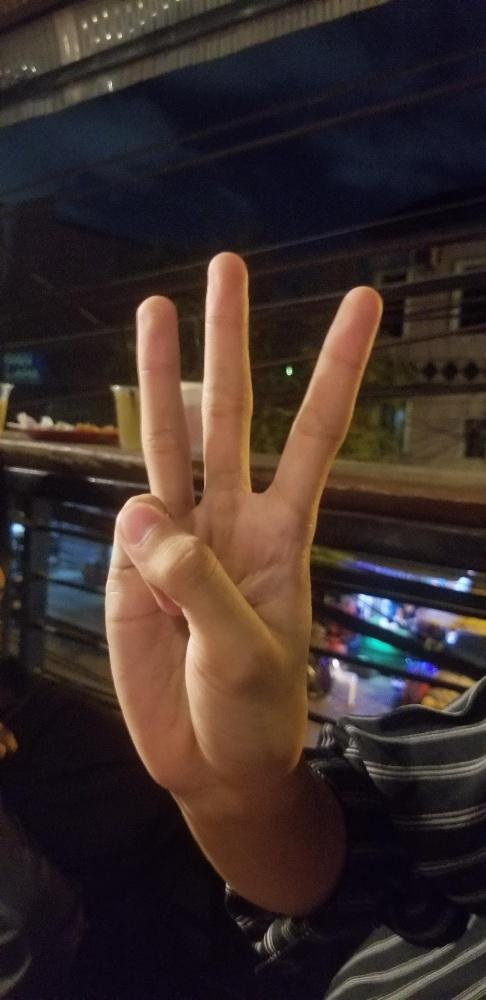w: (103, 246, 383, 771)
